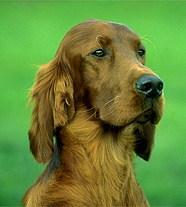Irish_setter: (29, 20, 164, 206)
